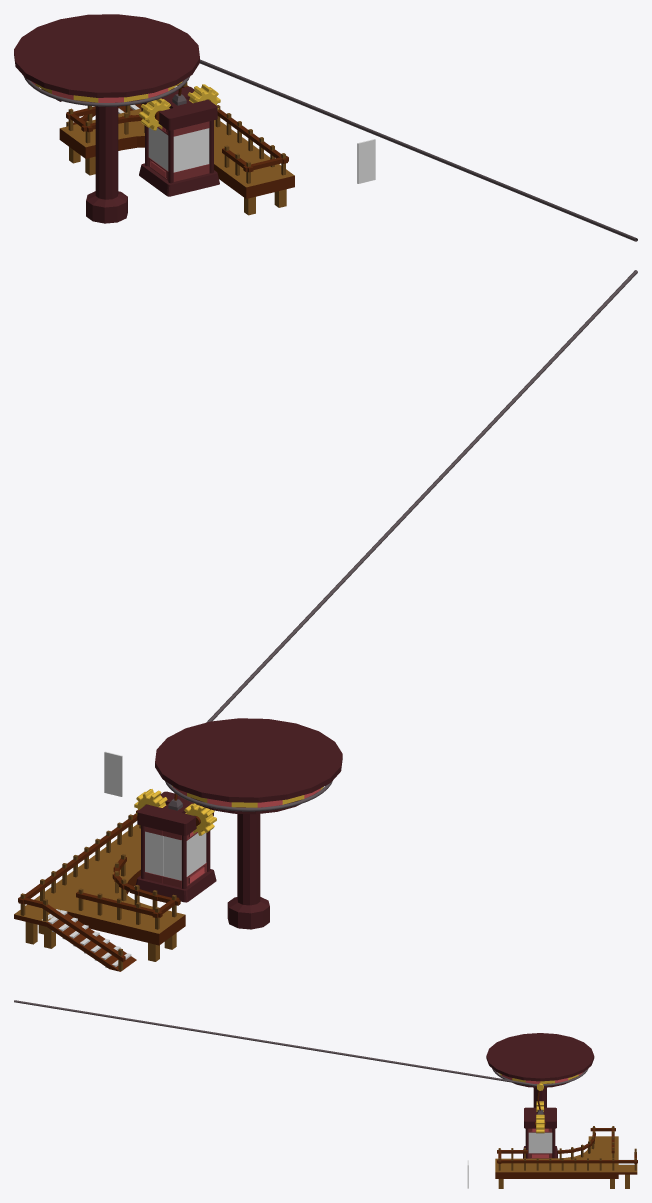
The model's file is LiftColor.fbx.
3 renders of one model, top to bottom at view 1: azimuth 30°, elevation 25°; view 2: azimuth 150°, elevation 25°; view 3: azimuth 270°, elevation 25°, orthographic. The views are drawn at different scales.
Visible parts, largest first — view 1: Cylinder.004, Cube, основа, Cylinder.005, NurbsPath, Cube.018, окна по бокам.002, Cube.003, границы сзади, Cube.008, BezierCircle, окна по бокам (+3 smaller); view 2: Cylinder.004, Cube, основа, Cylinder.005, Cube.018, NurbsPath, Cube.003, Cube.026, Cube.001, Cube.009; view 3: Cylinder.004, Cube, NurbsPath, Cube.018, основа, Cube.003, окна по бокам.
Part boxes in pixels (bbox=[...]): Cylinder.004: bbox=[14, 14, 199, 97]; Cube: bbox=[59, 108, 294, 215]; основа: bbox=[139, 86, 219, 196]; Cylinder.005: bbox=[86, 106, 127, 223]; NurbsPath: bbox=[200, 59, 637, 241]; Cube.018: bbox=[66, 85, 288, 172]; окна по бокам.002: bbox=[173, 128, 209, 172]; Cube.003: bbox=[66, 82, 285, 183]; границы сзади: bbox=[148, 121, 209, 181]; Cube.008: bbox=[357, 139, 375, 183]; BezierCircle: bbox=[23, 76, 189, 106]; окна по бокам: bbox=[148, 127, 168, 170]; Cylinder.004: bbox=[155, 718, 342, 802]; Cube: bbox=[25, 824, 185, 961]; основа: bbox=[135, 791, 216, 902]; Cylinder.005: bbox=[227, 814, 269, 929]; Cube.018: bbox=[18, 810, 180, 961]; NurbsPath: bbox=[206, 270, 637, 722]; Cube.003: bbox=[20, 814, 176, 971]; Cube.026: bbox=[14, 904, 136, 971]; Cube.001: bbox=[144, 826, 163, 883]; Cube.009: bbox=[163, 831, 181, 887]; Cylinder.004: bbox=[486, 1033, 594, 1081]; Cube: bbox=[495, 1136, 629, 1188]; NurbsPath: bbox=[14, 1000, 537, 1086]; Cube.018: bbox=[497, 1127, 637, 1163]; основа: bbox=[523, 1107, 557, 1158]; Cube.003: bbox=[498, 1126, 636, 1170]; окна по бокам: bbox=[528, 1132, 552, 1153].
Size of the model in its own units: 5182 by 5066 by 16967.
Materials: 3 (2 with a texture image).
